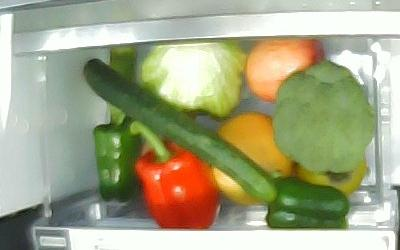apple: (245, 38, 322, 102)
broccoli: (271, 60, 375, 174)
cucumber: (84, 58, 279, 206), (107, 49, 137, 123)
grapefruit: (212, 112, 294, 206)
lettuce: (139, 40, 247, 119)
paprika: (129, 119, 220, 229), (92, 113, 142, 202), (266, 177, 349, 230)
persimmon: (295, 156, 366, 196)
